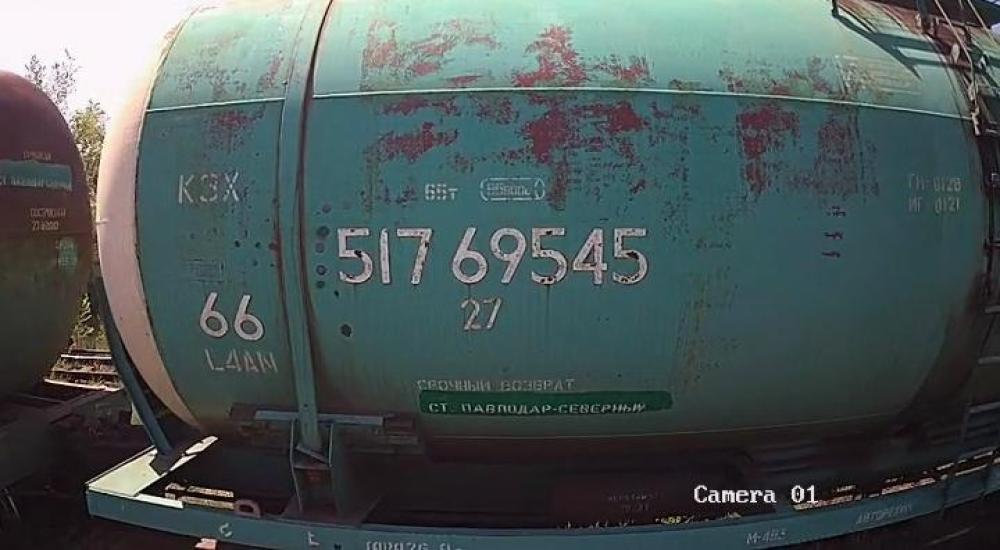Wagon-number: (328, 218, 658, 290)
